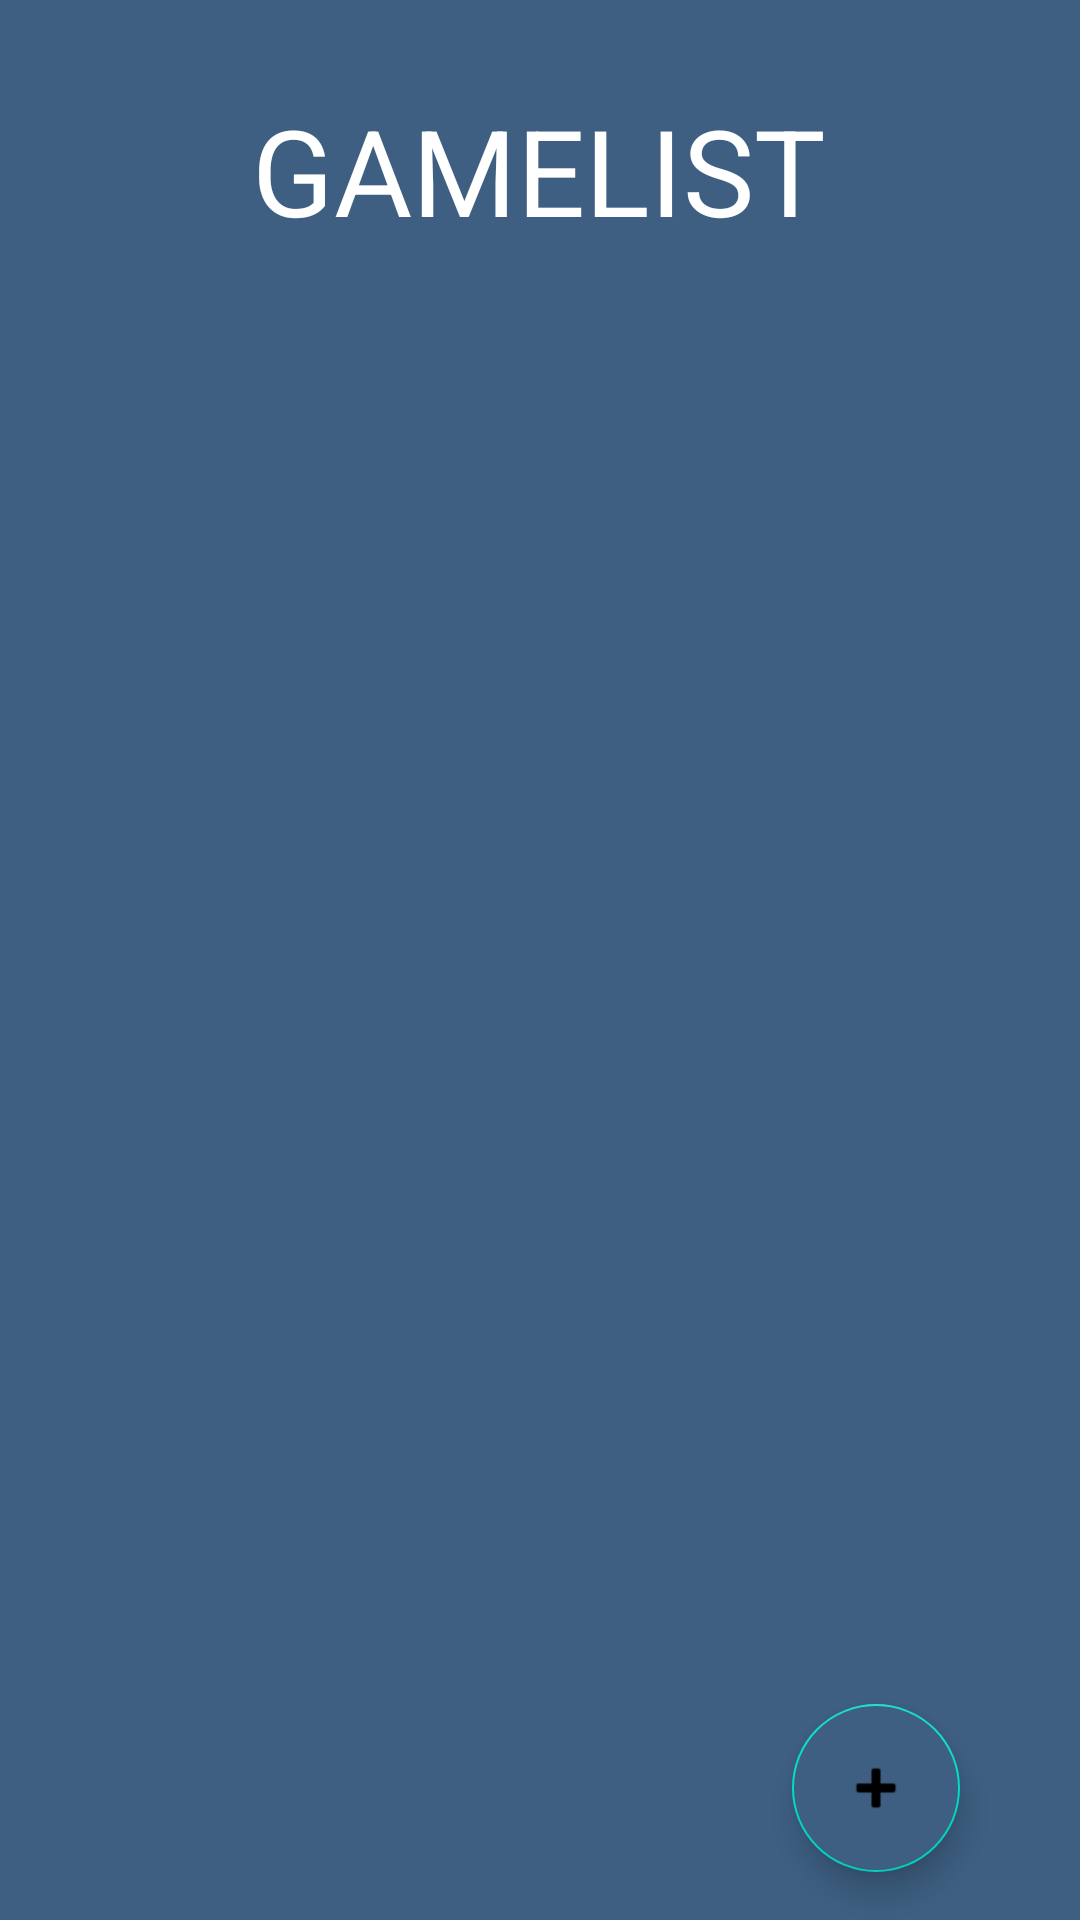

Icon bounding boxes for this 1080px x 1920px phone screenshot, format (x1, y1, x2, y2):
add: (792, 1704, 960, 1872)
